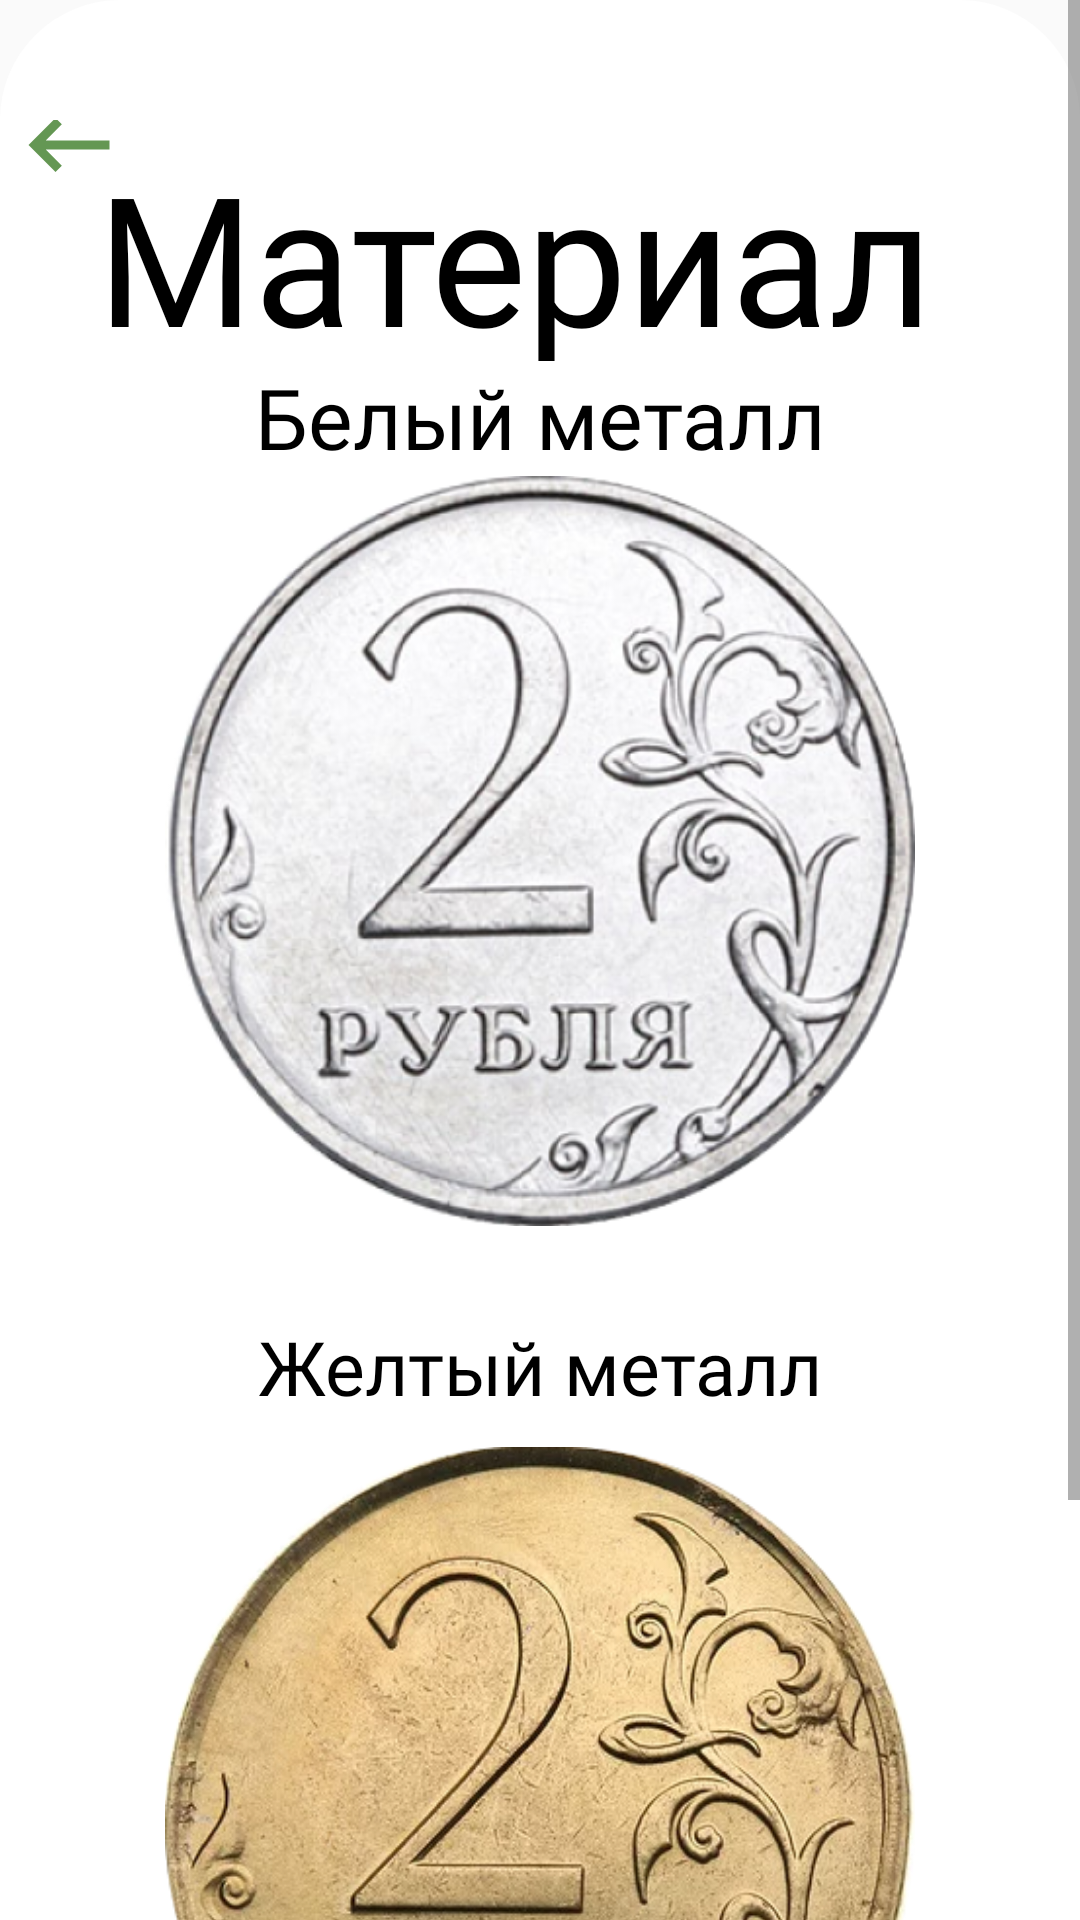

Named icons in this screenshot (1080px×1920px) and their centers, point (x, y):
keyboard backspace: point (69, 146)
